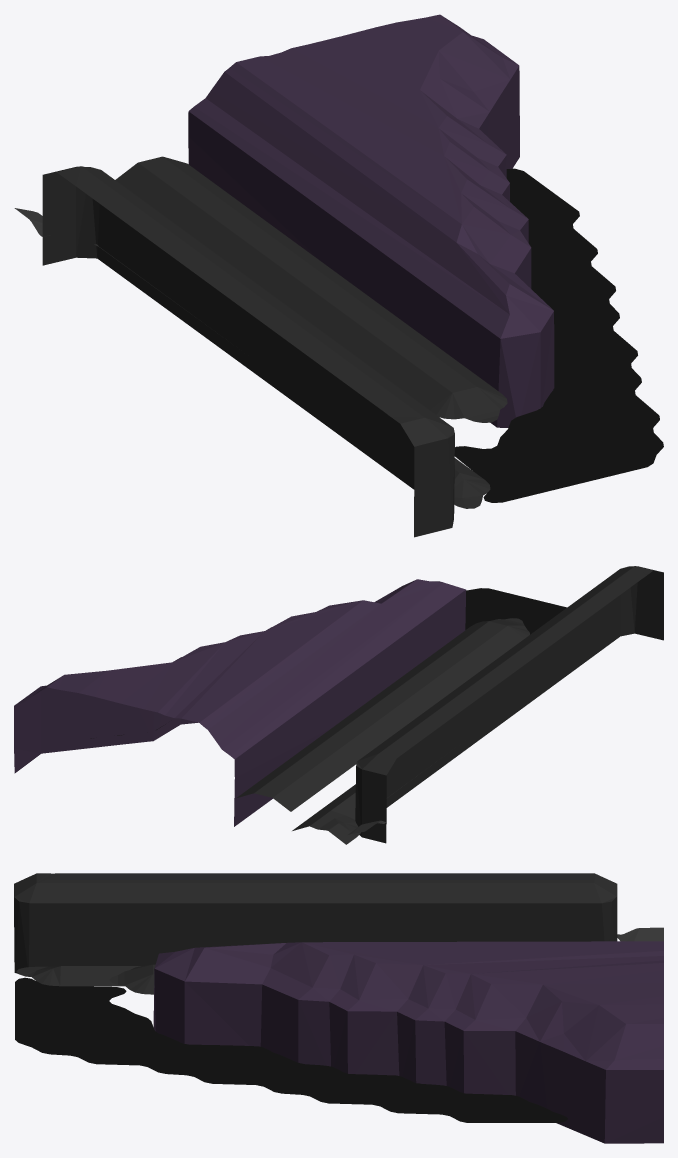
File: newshb-123.glb
The picture shows the model from 3 angles, top to bottom: view 1: azimuth 30°, elevation 25°; view 2: azimuth 150°, elevation 25°; view 3: azimuth 270°, elevation 25°; orthographic projection. The views are drawn at different scales.
Visible parts, largest first — view 1: newshb-123; view 2: newshb-123; view 3: newshb-123.
Boxes of the visible parts, box(x1,y1,x2,y2) form: newshb-123: box(14, 14, 663, 537); newshb-123: box(14, 566, 663, 844); newshb-123: box(14, 873, 663, 1143).
Size of the model in its own units: 1.58 by 0.4155 by 2.33.
